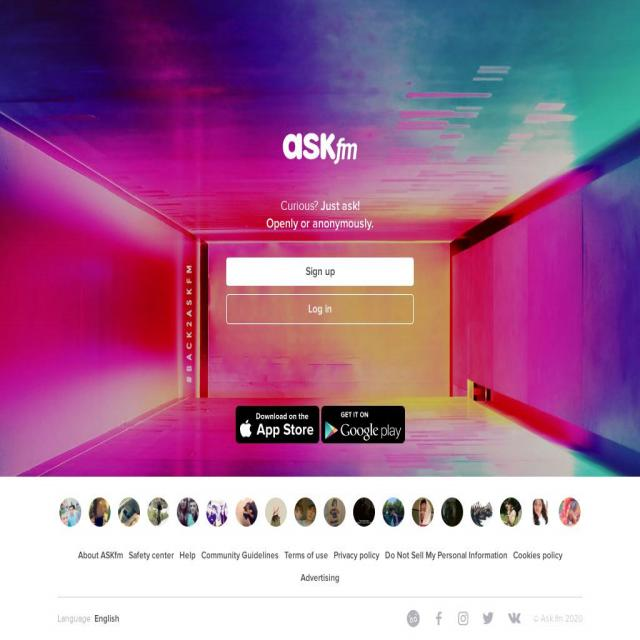follow-options: (398, 600, 532, 640)
language: (53, 605, 135, 630)
login-option: (215, 288, 426, 332)
sign-up-option: (212, 247, 428, 288)
